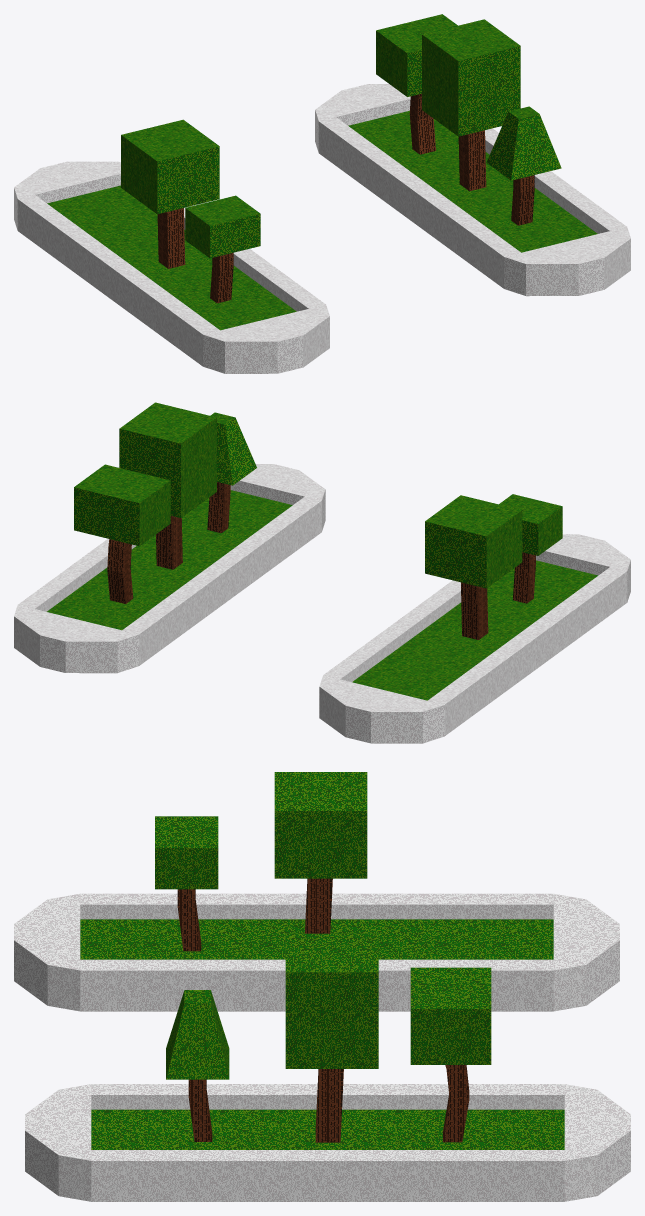
Rendered from BGN_STREET TREES 2.fbx.
3 views of the same model, one above another, from view 1: azimuth 30°, elevation 25°; view 2: azimuth 150°, elevation 25°; view 3: azimuth 270°, elevation 25° (orthographic). The views are drawn at different scales.
Parts seen in each view (by area): view 1: Cube__96_, Cube__95_; view 2: Cube__96_, Cube__95_; view 3: Cube__96_, Cube__95_.
Part boxes in pixels (x1,y1,x2,y2): Cube__96_: (315,14,630,296); Cube__95_: (14,119,329,373); Cube__96_: (14,402,325,673); Cube__95_: (319,494,630,743); Cube__96_: (25,933,630,1201); Cube__95_: (14,772,619,1011).
Size of the model in its own units: 1086 by 399 by 1060.
